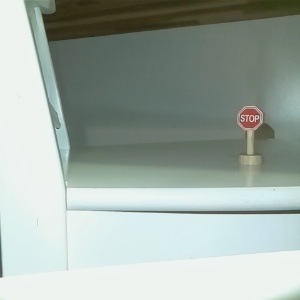stop sign: (233, 103, 265, 166)
